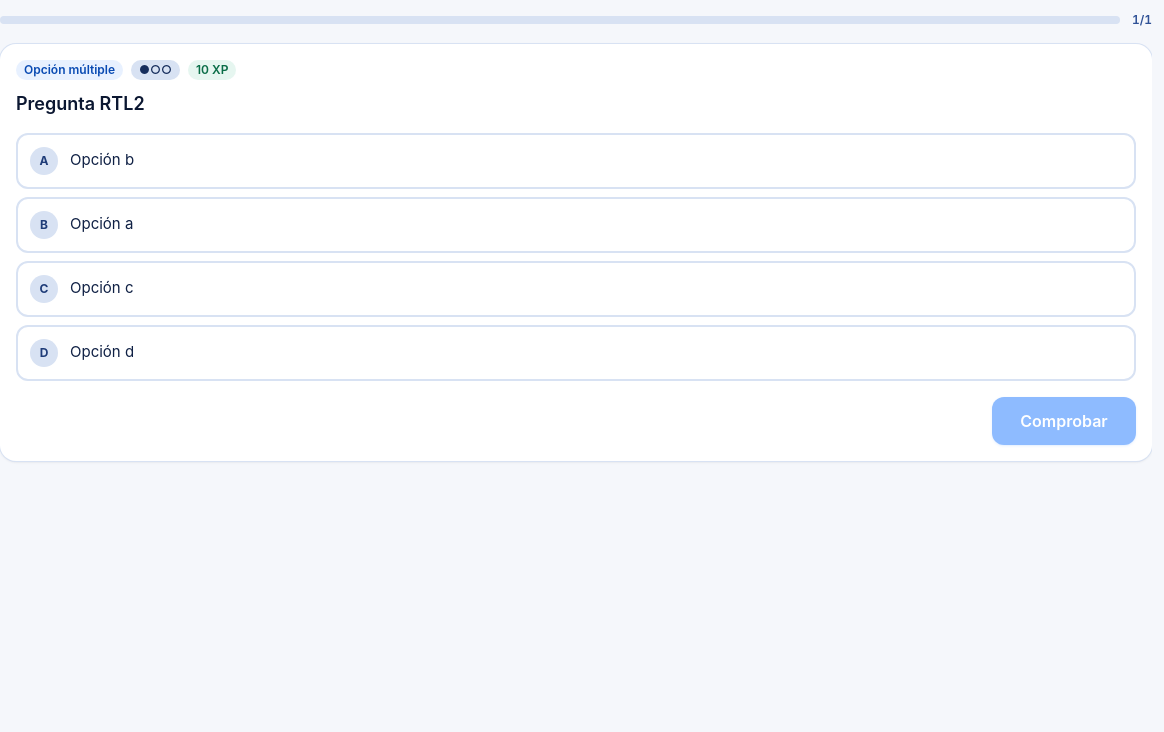
Test case: ExerciseRunner (React Testing Library) › a wrong choice is graded wrong even if it sits where the correct option was authored (position A)
This screenshot has width=1164, height=732.
Click the radio button labelled "C Opción c": (102, 287) [16,261,1136,317]
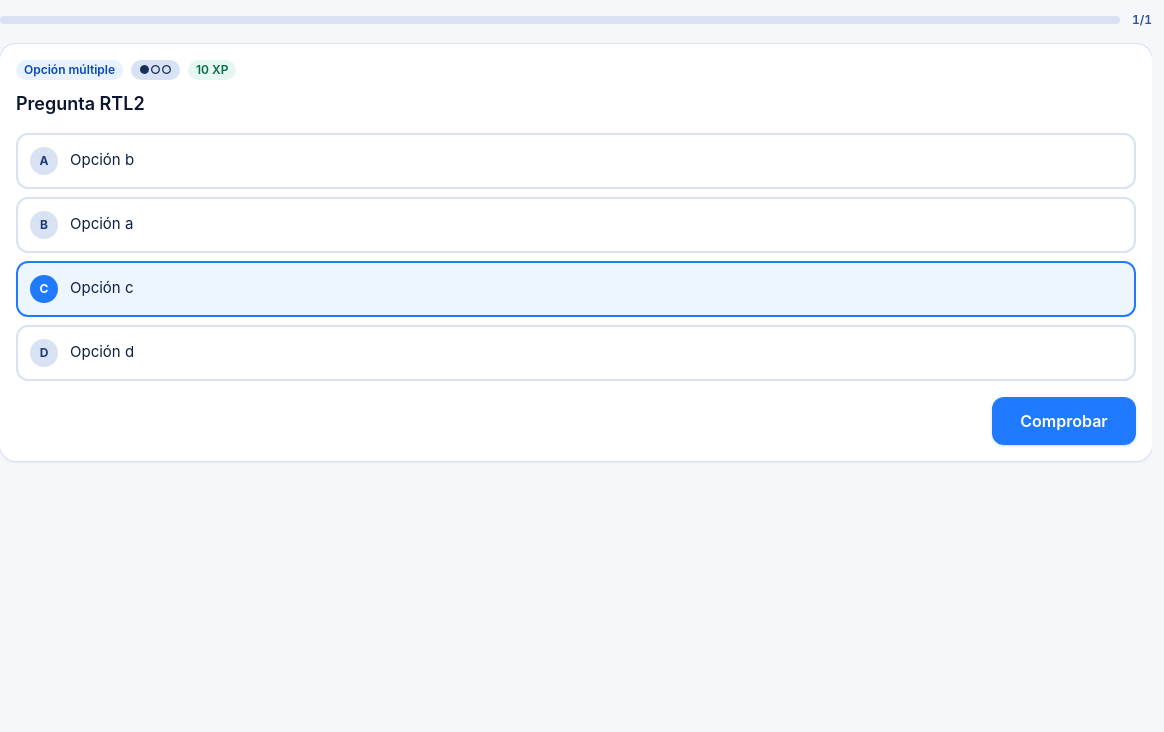
Click the button "Comprobar": (1064, 421) [992,397,1136,445]
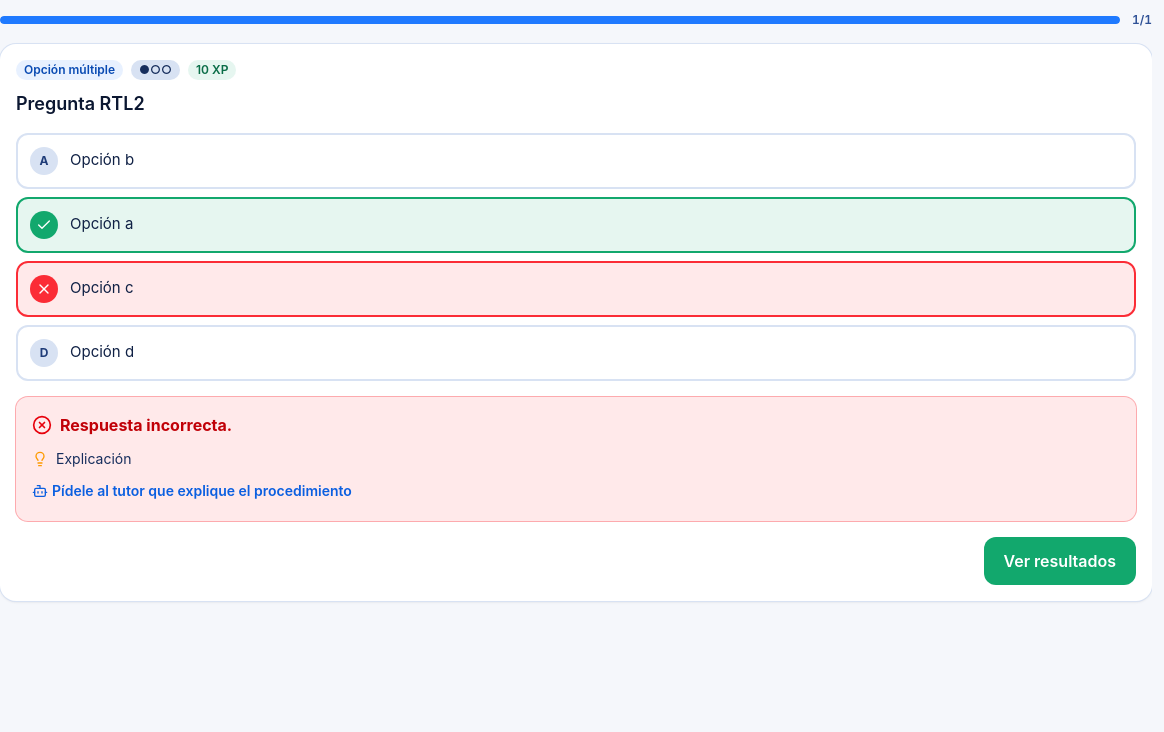
Now the text "Respuesta incorrecta." is shown, box [60,413,232,437]
